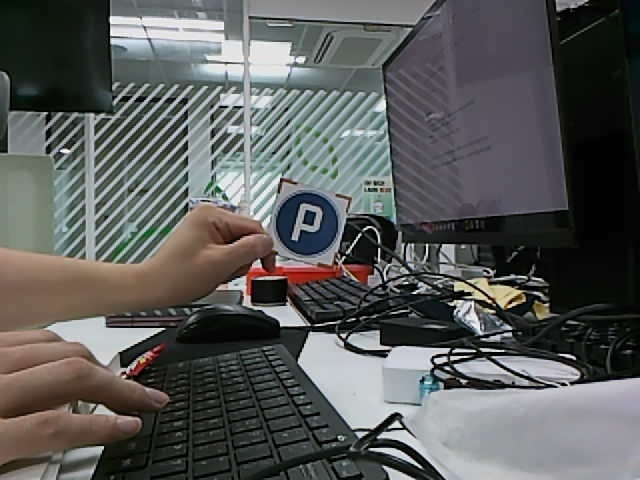park: (276, 192, 340, 257)
